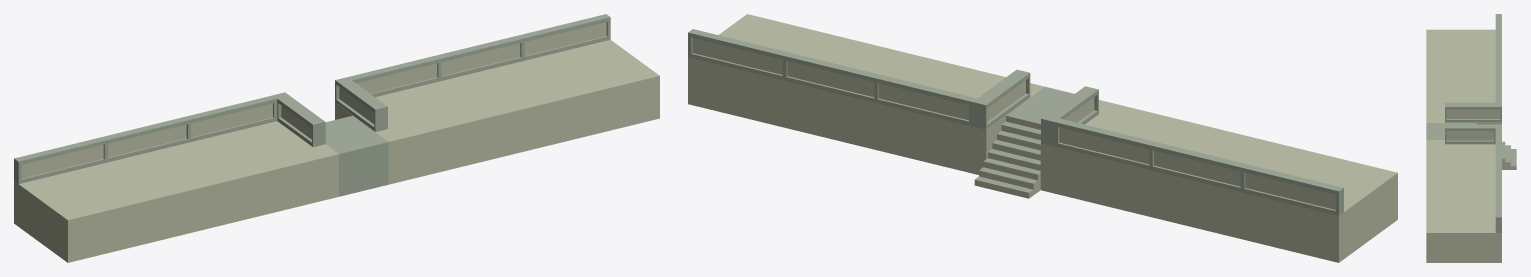
The model's file is Barrière 5.fbx.
3 renders of one model, left to right at view 1: azimuth 30°, elevation 25°; view 2: azimuth 150°, elevation 25°; view 3: azimuth 270°, elevation 25°, orthographic. The views are drawn at different scales.
Parts seen in each view (by area): view 1: Entrée Temple; view 2: Entrée Temple; view 3: Entrée Temple.
Part boxes in pixels (<box>): Entrée Temple: <box>14,14,659,262</box>; Entrée Temple: <box>688,14,1397,262</box>; Entrée Temple: <box>1426,14,1516,262</box>.
Bounding box in the file's own units: 1682 × 177 × 317.
